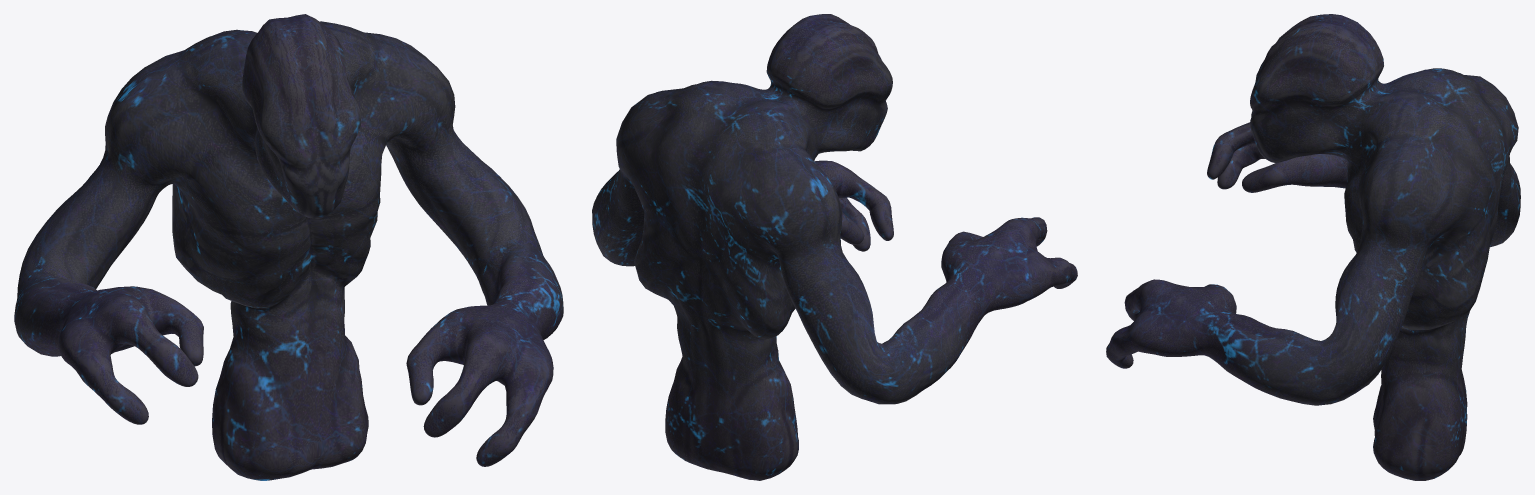
Rendered from pose02.fbx.
3 renders of one model, left to right at view 1: azimuth 30°, elevation 25°; view 2: azimuth 150°, elevation 25°; view 3: azimuth 270°, elevation 25°, orthographic. The views are drawn at different scales.
Visible parts, largest first — view 1: Monster06; view 2: Monster06; view 3: Monster06.
Part boxes in pixels (bbox=[...]): Monster06: bbox=[14, 14, 563, 480]; Monster06: bbox=[592, 14, 1077, 480]; Monster06: bbox=[1106, 14, 1520, 480].
Size of the model in its own units: 1.26 by 1.18 by 1.06.
